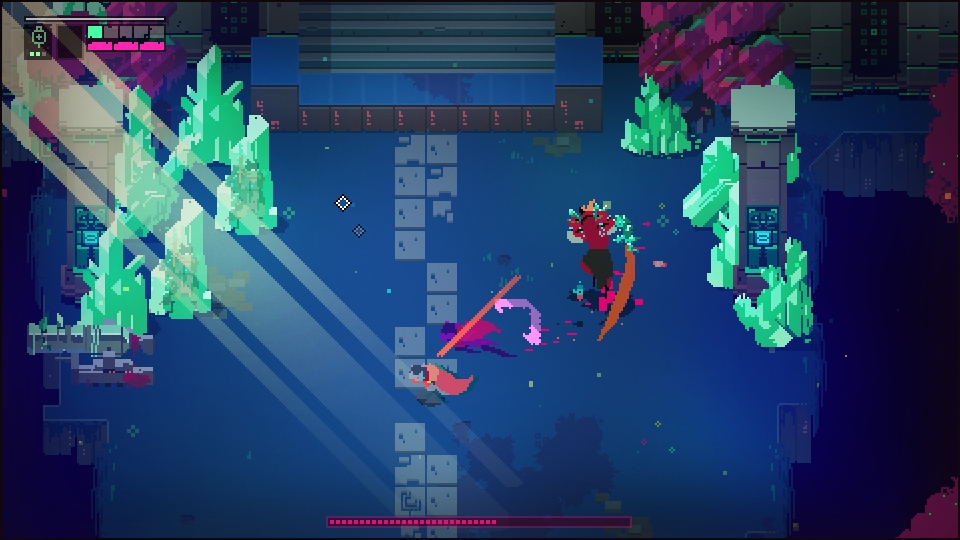hanged_man: (559, 201, 636, 332)
player: (408, 368, 477, 401)
